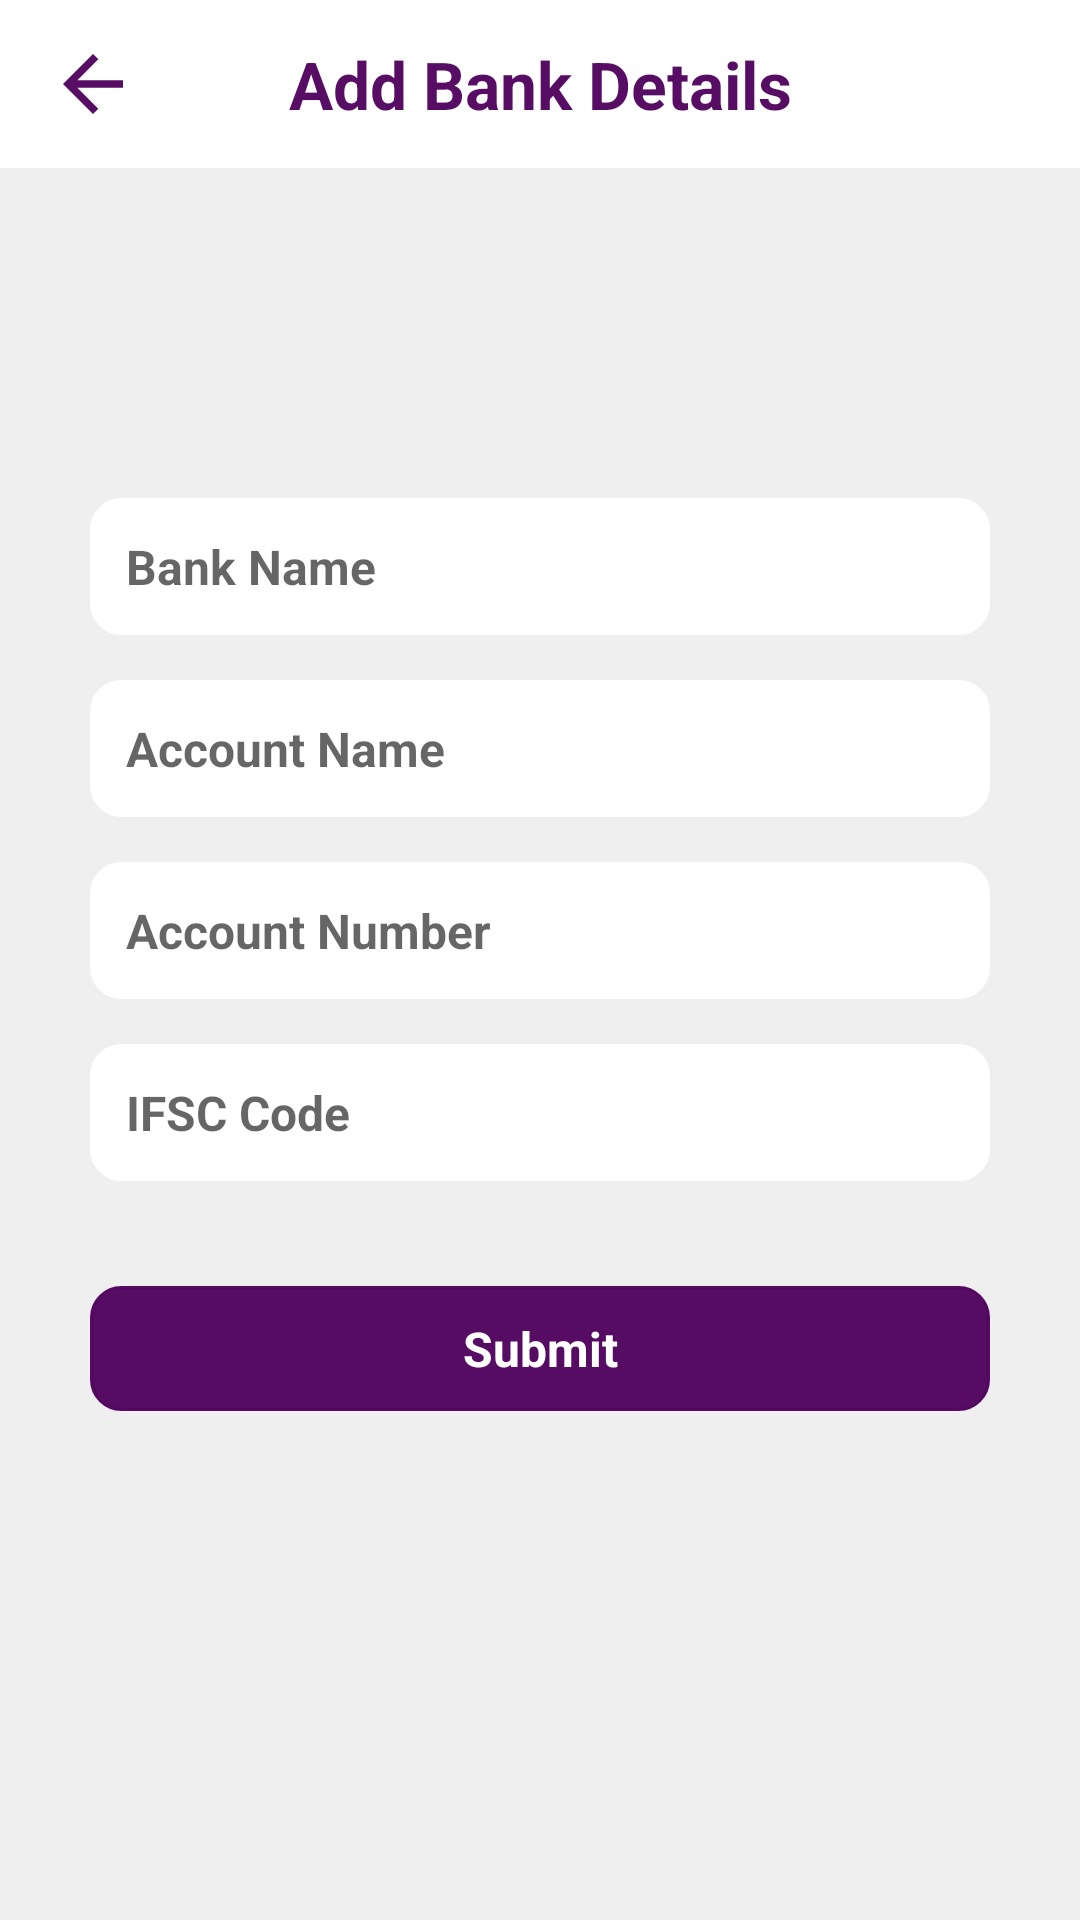

Locate icon controls on the screen. Image size 1080px×1920px, boxes as [left=x1, top=y1, right=x2, bottom=y2].
back: [left=63, top=54, right=123, bottom=114]
